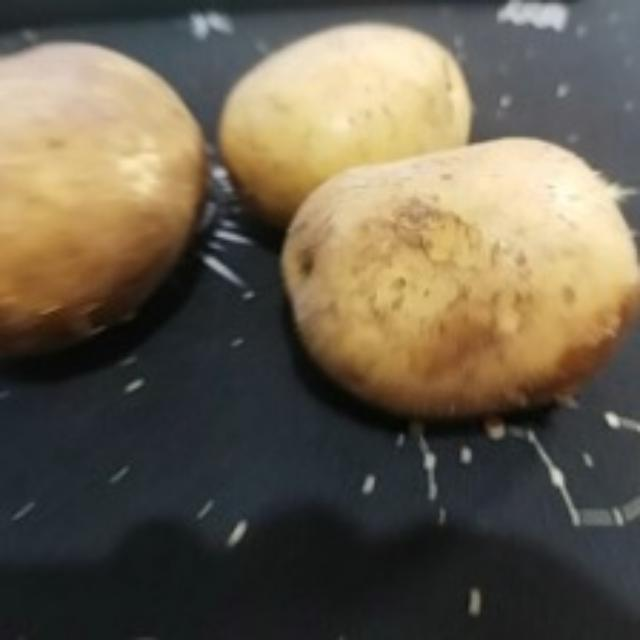Damaged potato: (274, 135, 638, 431), (3, 36, 213, 382)
Potato: (218, 24, 482, 232)
